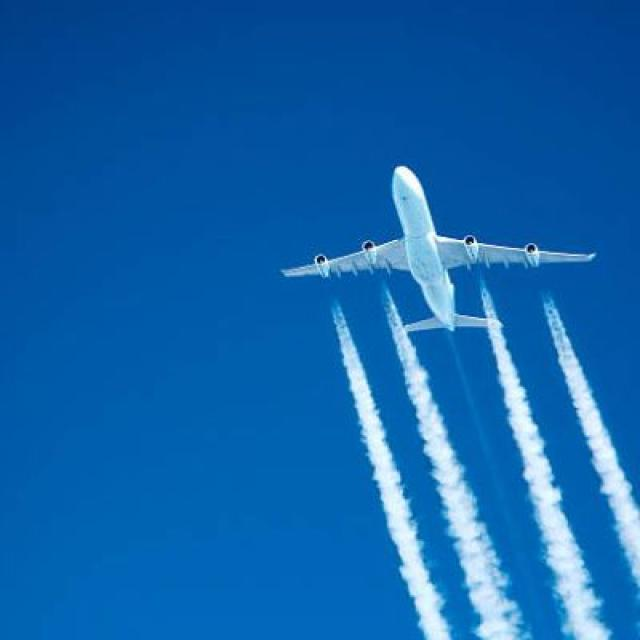Ct: (287, 143, 640, 640)
